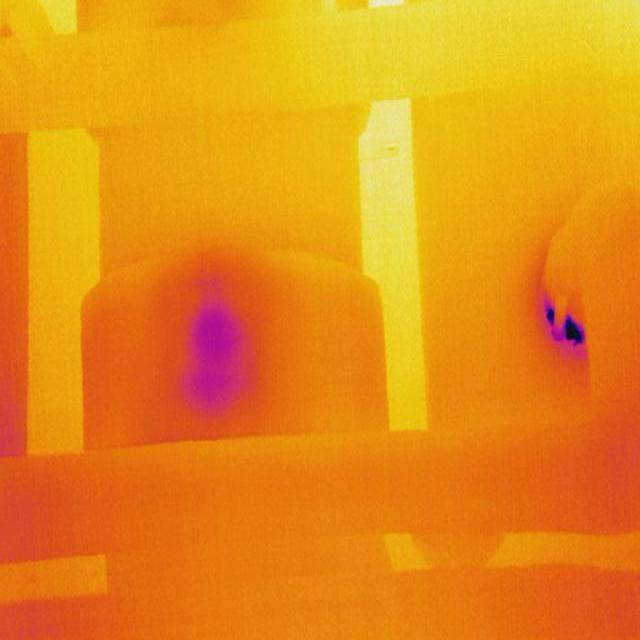leakage: (167, 273, 258, 408), (535, 299, 586, 353)
